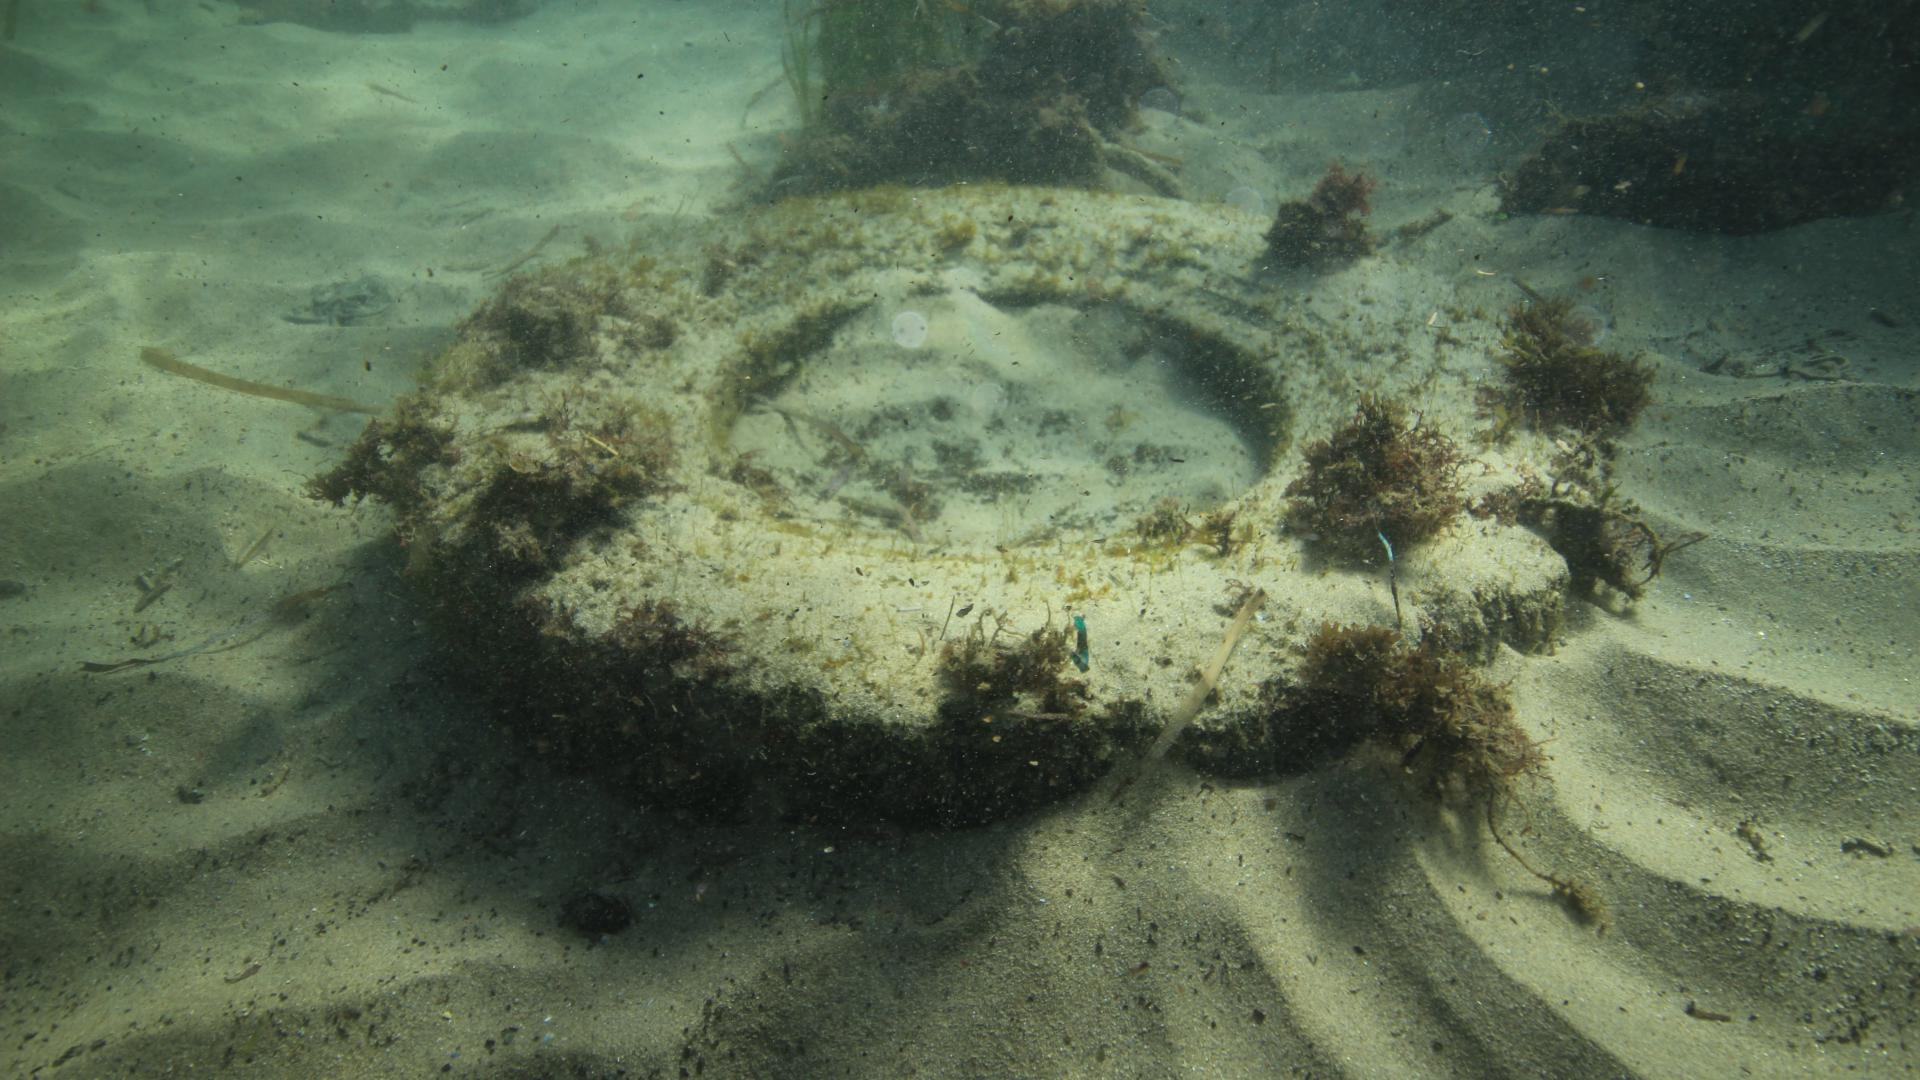tire: (396, 182, 1600, 827)
